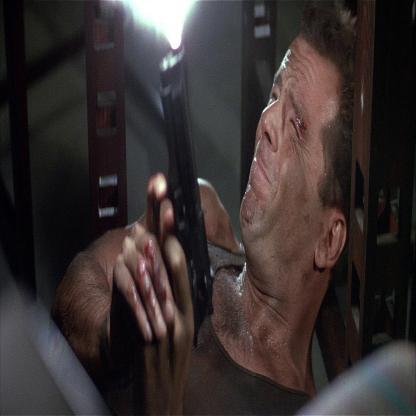gun: (159, 41, 219, 359)
